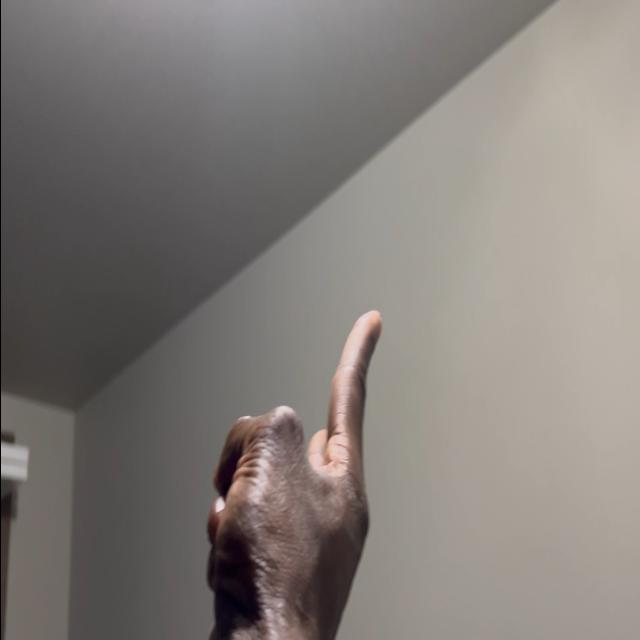Scissors: (208, 308, 385, 640)
